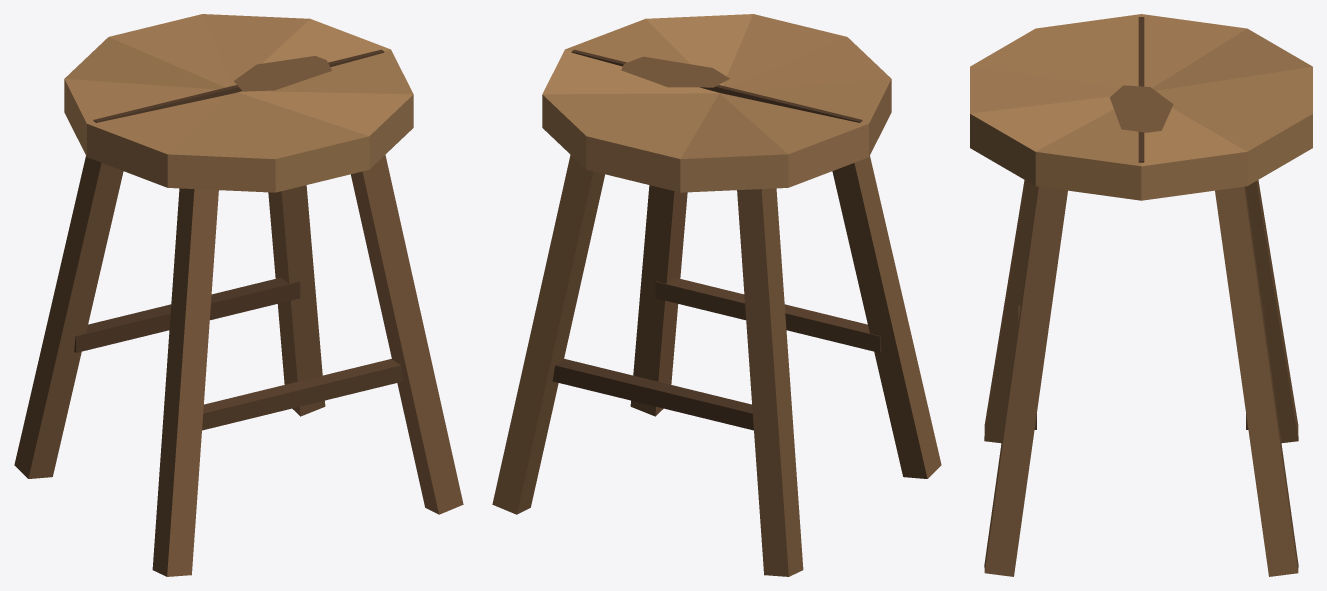
The model's file is chair_wood_taburet_idle.glb.
3 views of the same model, side by side, from view 1: azimuth 30°, elevation 25°; view 2: azimuth 150°, elevation 25°; view 3: azimuth 270°, elevation 25° (orthographic). The views are drawn at different scales.
Parts seen in each view (by area): view 1: chair_wood_taburet_idle; view 2: chair_wood_taburet_idle; view 3: chair_wood_taburet_idle.
Boxes of the visible parts, left/top/right/bottom form: chair_wood_taburet_idle: left=14, top=14, right=463, bottom=576; chair_wood_taburet_idle: left=492, top=14, right=941, bottom=576; chair_wood_taburet_idle: left=970, top=14, right=1312, bottom=576.
Bounding box in the file's own units: 0.38 × 0.4875 × 0.3614.
1 material, 1 textured.
